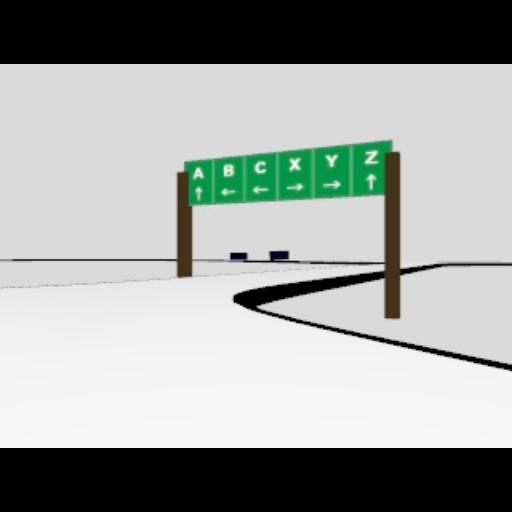A: (192, 166, 204, 180)
B: (222, 164, 234, 176)
C: (253, 160, 267, 174)
Left: (251, 186, 269, 194), (219, 187, 237, 195)
Right: (322, 179, 340, 189), (284, 182, 304, 190)
Straight: (364, 173, 376, 189), (194, 186, 202, 200)
X: (288, 156, 300, 170)
Y: (324, 154, 338, 166)
Z: (363, 149, 377, 163)
